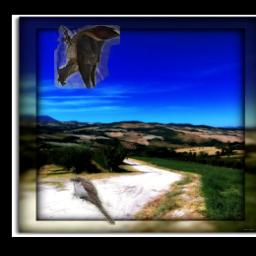Cuckoo: (70, 176, 115, 225)
Swallow: (55, 26, 121, 89)
